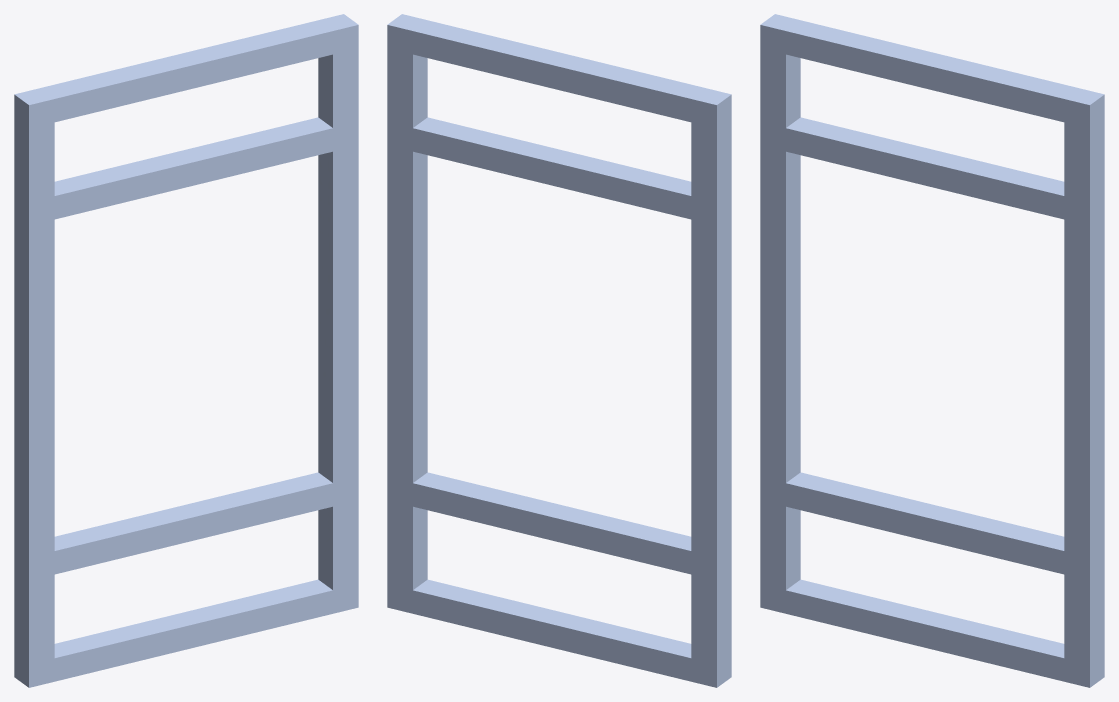
Rendered from SecDoor.glb.
The picture shows the model from 3 angles, left to right: view 1: azimuth 30°, elevation 25°; view 2: azimuth 150°, elevation 25°; view 3: azimuth 330°, elevation 25°; orthographic projection.
Visible parts, largest first — view 1: SecDoor; view 2: SecDoor; view 3: SecDoor.
Part boxes in pixels (left/top/right/bottom): SecDoor: left=14, top=14, right=358, bottom=687; SecDoor: left=387, top=14, right=731, bottom=687; SecDoor: left=760, top=14, right=1104, bottom=687.
Bounding box in the file's own units: 103 × 174 × 8.
1 material, 1 textured.
